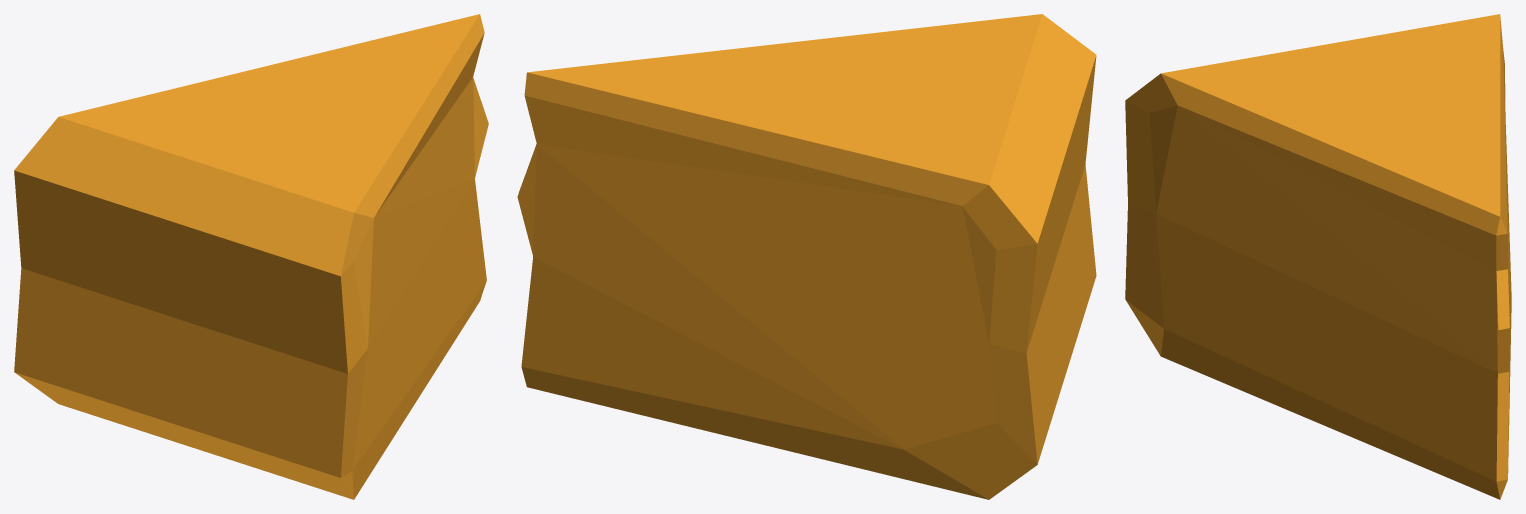
The model's file is SM_Brie_Cut_Piece.fbx.
3 views of the same model, side by side, from view 1: azimuth 30°, elevation 25°; view 2: azimuth 150°, elevation 25°; view 3: azimuth 270°, elevation 25° (orthographic). The views are drawn at different scales.
Parts seen in each view (by area): view 1: brie-cut-piece; view 2: brie-cut-piece; view 3: brie-cut-piece.
Part boxes in pixels (<box>): brie-cut-piece: <box>14,14,488,499</box>; brie-cut-piece: <box>517,14,1096,499</box>; brie-cut-piece: <box>1125,14,1511,499</box>.
Bounding box in the file's own units: 0.061 × 0.0353 × 0.0437.
